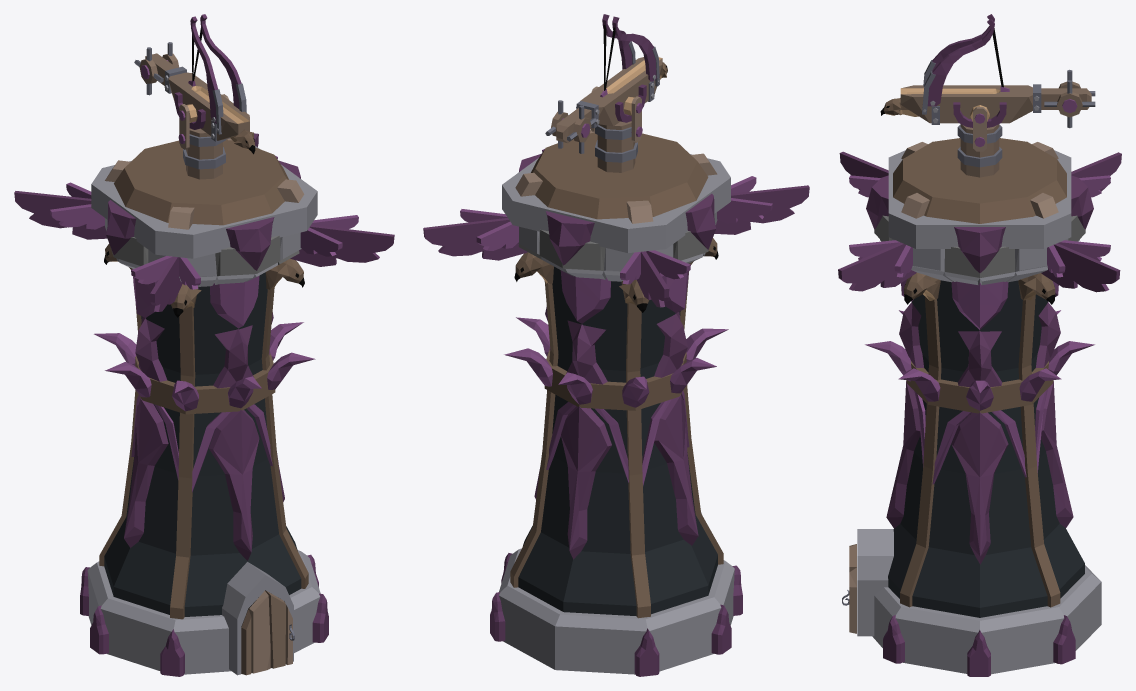
Rendered from Ballista_LVL4.fbx.
3 renders of one model, left to right at view 1: azimuth 30°, elevation 25°; view 2: azimuth 150°, elevation 25°; view 3: azimuth 270°, elevation 25°, orthographic.
Parts seen in each view (by area): view 1: Ballista_tower_LVL_4.002, Ballista_tower_LVL_4.001; view 2: Ballista_tower_LVL_4.002, Ballista_tower_LVL_4.001; view 3: Ballista_tower_LVL_4.002, Ballista_tower_LVL_4.001.
Part boxes in pixels (left/top/right/bottom): Ballista_tower_LVL_4.002: left=14, top=128, right=394, bottom=676; Ballista_tower_LVL_4.001: left=134, top=14, right=255, bottom=154; Ballista_tower_LVL_4.002: left=423, top=121, right=809, bottom=676; Ballista_tower_LVL_4.001: left=545, top=14, right=667, bottom=153; Ballista_tower_LVL_4.002: left=838, top=124, right=1121, bottom=676; Ballista_tower_LVL_4.001: left=880, top=14, right=1095, bottom=151.
Bounding box in the file's own units: 662 × 1564 × 662.
